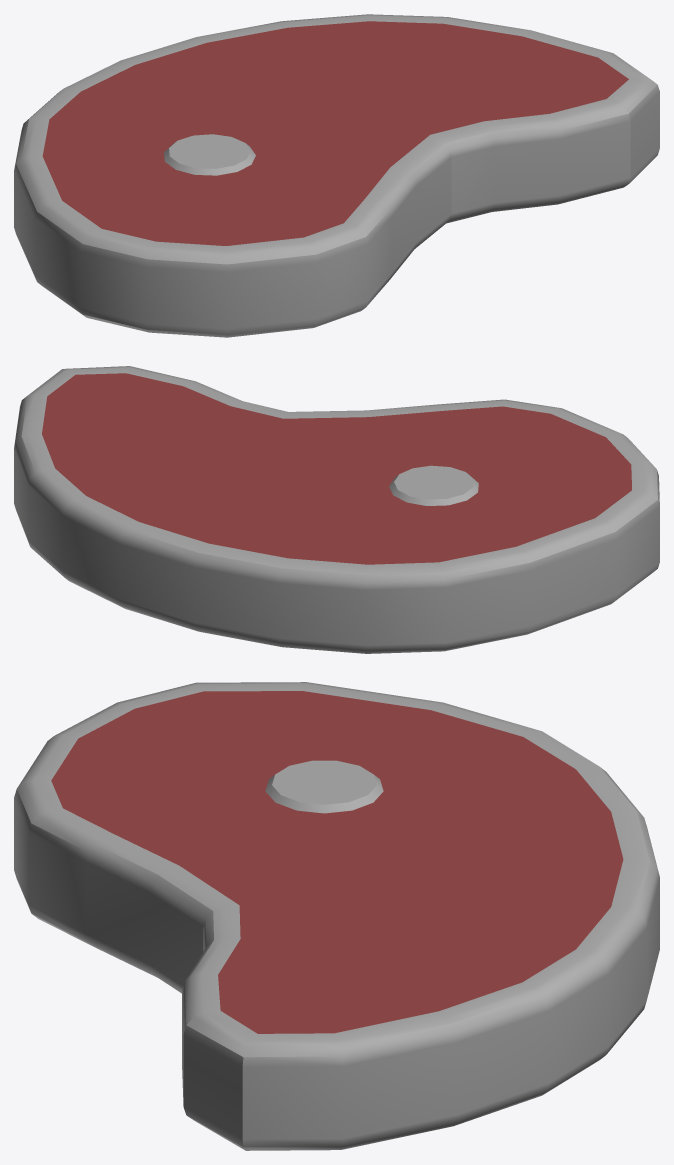
The model's file is steak.fbx.
The picture shows the model from 3 angles, top to bottom: view 1: azimuth 30°, elevation 25°; view 2: azimuth 150°, elevation 25°; view 3: azimuth 270°, elevation 25°; orthographic projection. The views are drawn at different scales.
Visible parts, largest first — view 1: pCylinder3; view 2: pCylinder3; view 3: pCylinder3.
Part boxes in pixels (<box>): pCylinder3: <box>14,14,659,337</box>; pCylinder3: <box>14,366,659,653</box>; pCylinder3: <box>14,682,659,1150</box>.
Bounding box in the file's own units: 262 × 39.07 × 191.
